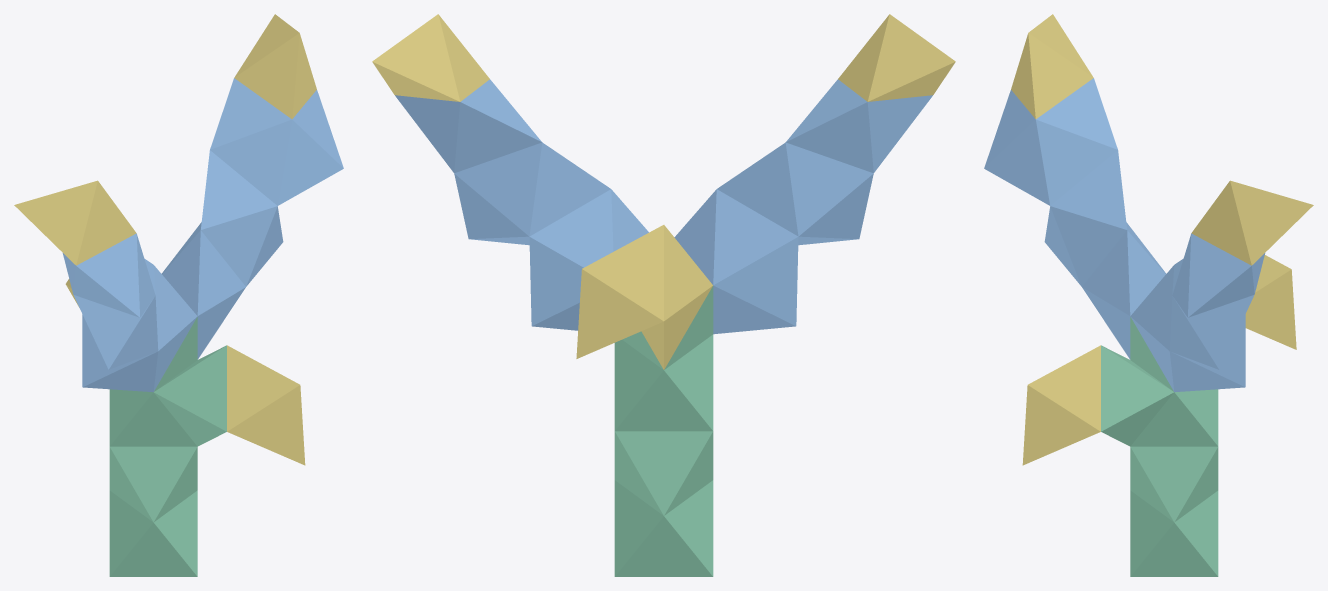
Rendered from pythagoras_m21.gltf.
3 views of the same model, side by side, from view 1: azimuth 30°, elevation 25°; view 2: azimuth 150°, elevation 25°; view 3: azimuth 270°, elevation 25° (orthographic). The views are drawn at different scales.
Parts seen in each view (by area): view 1: PythagorasMesh; view 2: PythagorasMesh; view 3: PythagorasMesh.
Boxes of the visible parts, <box> form: PythagorasMesh: <box>14,14,343,576</box>; PythagorasMesh: <box>372,14,955,576</box>; PythagorasMesh: <box>984,14,1313,576</box>.
Size of the model in its own units: 30.47 by 34.04 by 21.63.
